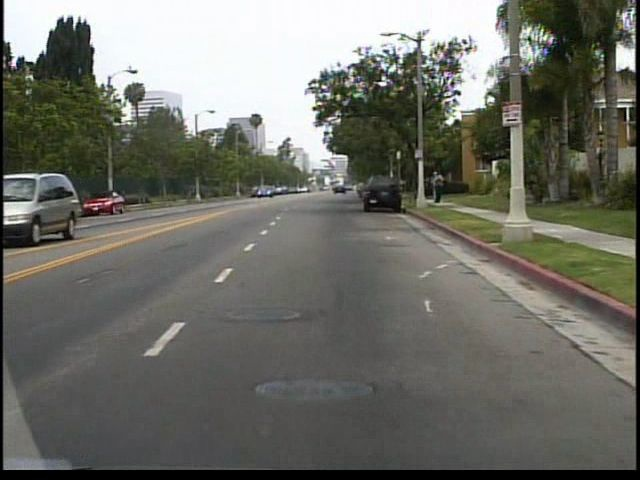person: (430, 169, 446, 207), (434, 171, 447, 205)
